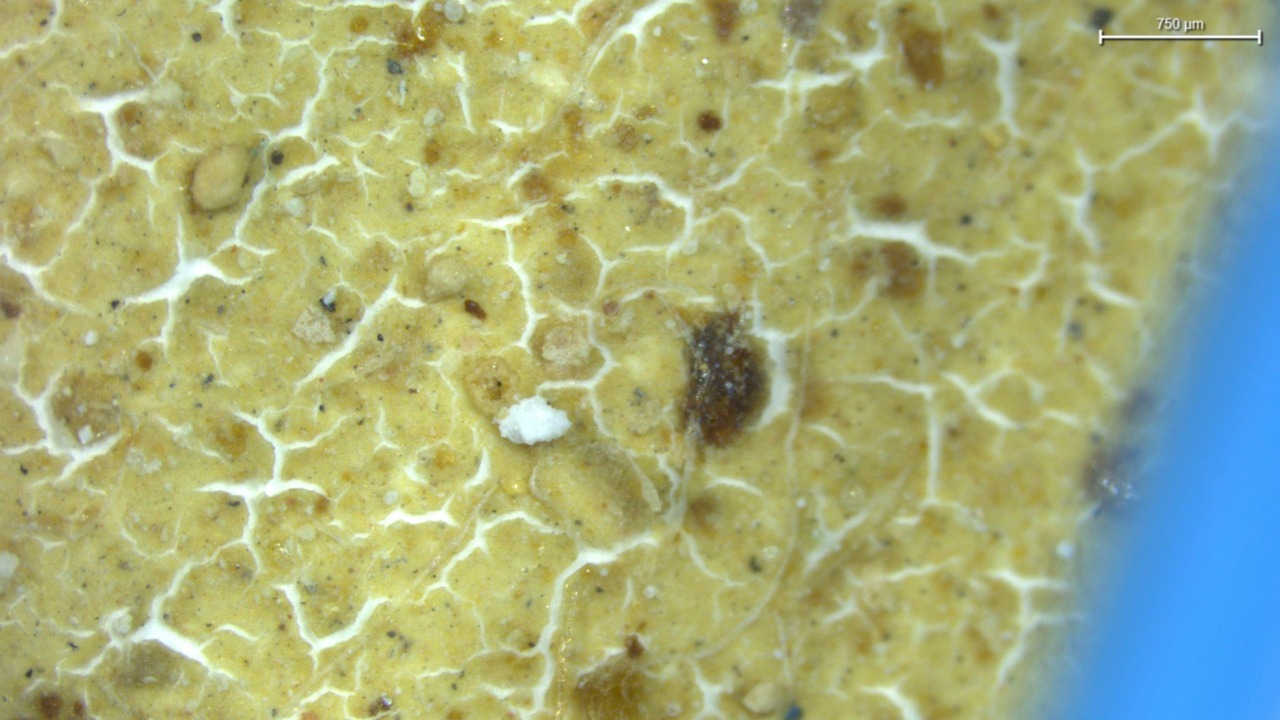microplastic_fragment: (190, 142, 253, 212), (496, 396, 571, 445)
